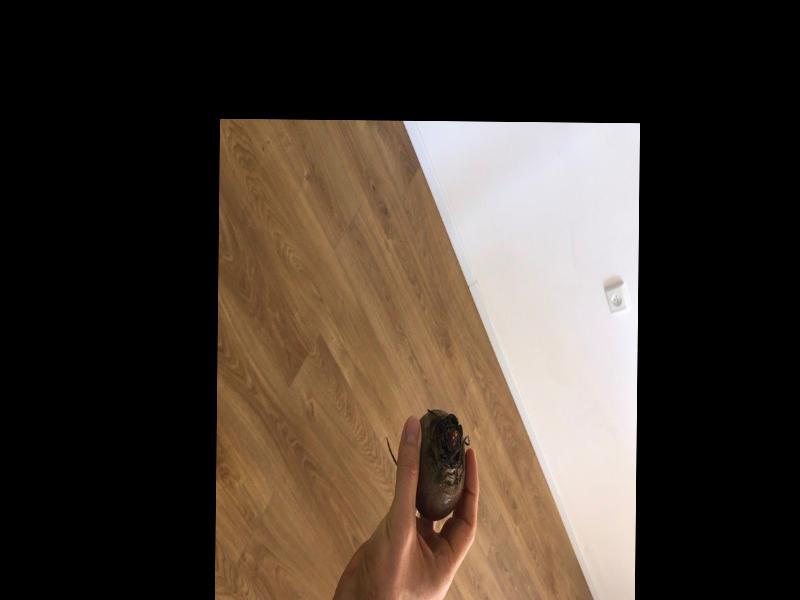Beet: (385, 408, 468, 520)
